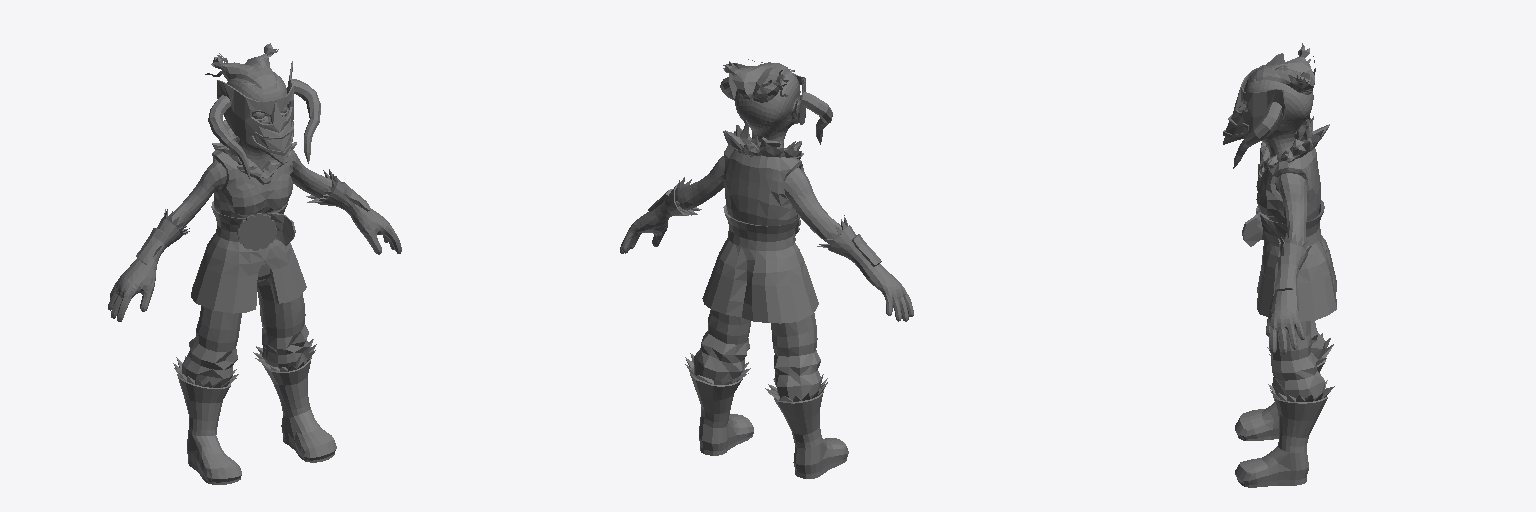
File: CarmenFix.obj
3 renders of one model, left to right at view 1: azimuth 30°, elevation 25°; view 2: azimuth 150°, elevation 25°; view 3: azimuth 270°, elevation 25°, orthographic.
Visible parts, largest first — view 1: Carmen2 CarmenTop5, Carmen2 CarmenBoots, Carmen2 CarmenPants, CarmenMask Carmen2, Carmen2 CarmenGloves, Carmen2 CarmenBelt, Carmen2 CarmenArms, Carmen2 CarmenHair1, Carmen2 CarmenHead; view 2: Carmen2 CarmenTop5, Carmen2 CarmenBoots, Carmen2 CarmenPants, Carmen2 CarmenGloves, Carmen2 CarmenArms, Carmen2 CarmenHead, Carmen2 CarmenHair1, Carmen2 CarmenBelt, CarmenMask Carmen2; view 3: Carmen2 CarmenTop5, Carmen2 CarmenBoots, Carmen2 CarmenGloves, Carmen2 CarmenPants, CarmenMask Carmen2, Carmen2 CarmenHead, Carmen2 CarmenArms, Carmen2 CarmenHair1, Carmen2 CarmenBelt.
Boxes of the visible parts, x1,y1,x2,y2 form: Carmen2 CarmenTop5: [191, 120, 306, 313]; Carmen2 CarmenBoots: [173, 339, 336, 484]; Carmen2 CarmenPants: [182, 262, 309, 386]; CarmenMask Carmen2: [208, 61, 320, 178]; Carmen2 CarmenGloves: [108, 169, 401, 321]; Carmen2 CarmenBelt: [211, 201, 295, 250]; Carmen2 CarmenArms: [172, 150, 331, 227]; Carmen2 CarmenHair1: [205, 43, 280, 92]; Carmen2 CarmenHead: [227, 72, 288, 169]; Carmen2 CarmenTop5: [702, 119, 818, 323]; Carmen2 CarmenBoots: [685, 353, 848, 478]; Carmen2 CarmenPants: [694, 309, 821, 399]; Carmen2 CarmenGloves: [620, 177, 913, 321]; Carmen2 CarmenArms: [678, 156, 841, 243]; Carmen2 CarmenHead: [735, 70, 800, 147]; Carmen2 CarmenHair1: [723, 59, 794, 102]; Carmen2 CarmenBelt: [723, 205, 800, 250]; CarmenMask Carmen2: [720, 63, 832, 144]; Carmen2 CarmenTop5: [1256, 115, 1336, 321]; Carmen2 CarmenBoots: [1235, 333, 1334, 487]; Carmen2 CarmenGloves: [1266, 233, 1311, 353]; Carmen2 CarmenPants: [1270, 321, 1324, 398]; CarmenMask Carmen2: [1223, 53, 1285, 168]; Carmen2 CarmenHead: [1238, 77, 1313, 157]; Carmen2 CarmenArms: [1275, 173, 1306, 245]; Carmen2 CarmenHair1: [1249, 43, 1315, 94]; Carmen2 CarmenBelt: [1242, 200, 1324, 246].
Bounding box in the file's own units: 112 × 150 × 38.89.